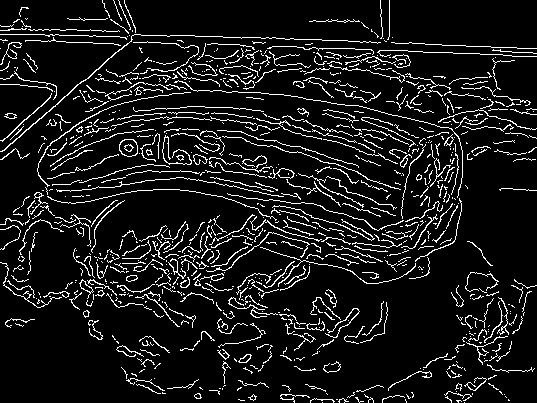cucumber: (30, 86, 468, 241)
